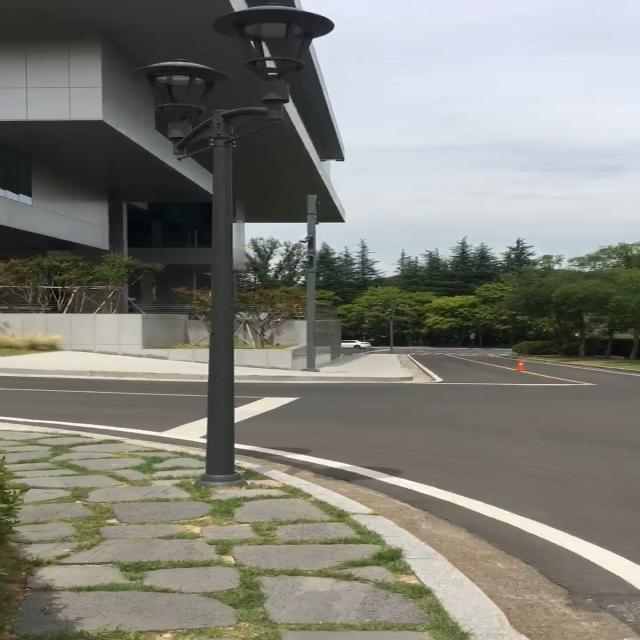obstacle: (205, 116, 236, 480)
road: (235, 354, 640, 640), (0, 376, 207, 438)
sidewalk: (0, 431, 468, 640), (235, 354, 412, 382)
